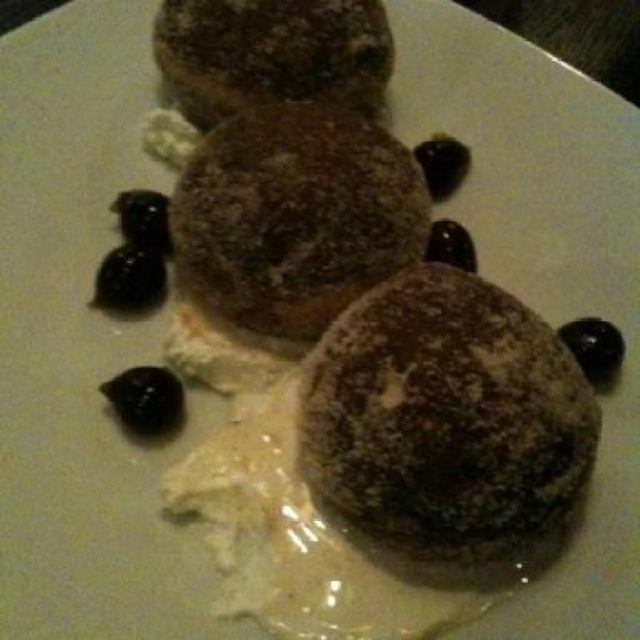Donuts: (142, 4, 593, 558)
